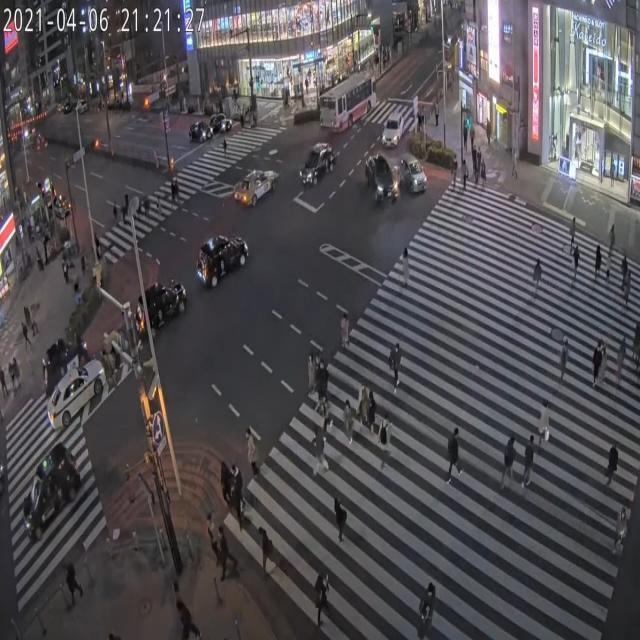humans: (307, 566, 333, 629), (172, 595, 205, 640), (445, 420, 466, 487), (309, 420, 332, 479), (240, 429, 266, 479), (418, 577, 438, 640), (216, 524, 236, 586), (600, 432, 621, 488), (498, 430, 518, 487), (257, 521, 276, 580), (332, 310, 356, 356), (387, 339, 407, 392), (60, 564, 82, 611), (228, 460, 244, 519), (522, 432, 535, 501), (302, 346, 316, 408), (217, 456, 232, 512), (613, 337, 628, 392), (341, 395, 355, 453), (399, 243, 412, 305), (332, 493, 347, 546), (616, 497, 628, 563), (313, 346, 324, 410), (528, 258, 544, 302), (570, 238, 584, 287), (380, 417, 393, 469), (205, 514, 219, 561), (558, 331, 569, 390), (230, 484, 243, 533), (318, 357, 330, 410), (538, 392, 549, 449), (357, 382, 368, 439), (448, 143, 459, 197), (509, 146, 522, 189), (592, 236, 602, 289), (366, 388, 376, 439), (598, 338, 609, 383), (456, 157, 469, 195), (620, 254, 630, 300), (624, 272, 636, 310), (606, 215, 616, 256), (468, 145, 478, 186), (591, 342, 601, 382), (568, 213, 578, 252), (633, 318, 640, 367), (604, 253, 614, 287), (481, 154, 488, 194), (476, 144, 482, 184)
